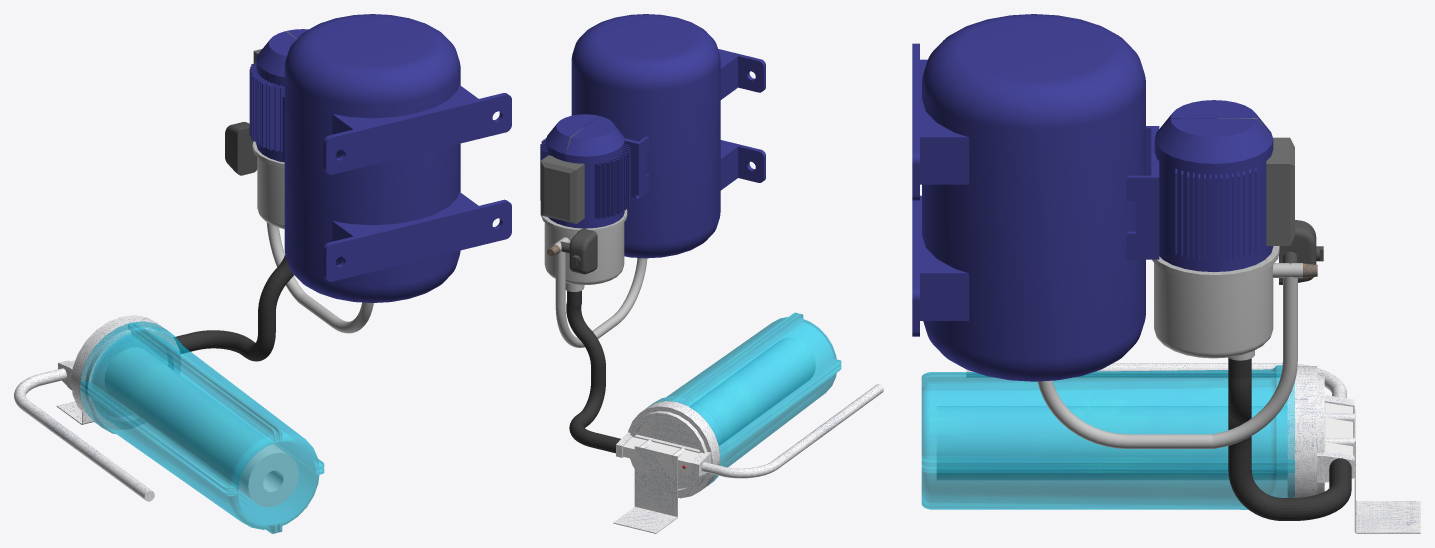
Rendered from waterp.dae.
3 renders of one model, left to right at view 1: azimuth 30°, elevation 25°; view 2: azimuth 150°, elevation 25°; view 3: azimuth 270°, elevation 25°, orthographic. The views are drawn at different scales.
Visible parts, largest first — view 1: SketchUp; view 2: SketchUp; view 3: SketchUp.
Boxes of the visible parts, left/top/right/bottom form: SketchUp: left=14, top=14, right=511, bottom=533; SketchUp: left=540, top=14, right=883, bottom=533; SketchUp: left=912, top=14, right=1420, bottom=533.
Size of the model in its own units: 0.2681 by 0.268 by 0.3231.
12 materials, 1 textured.
